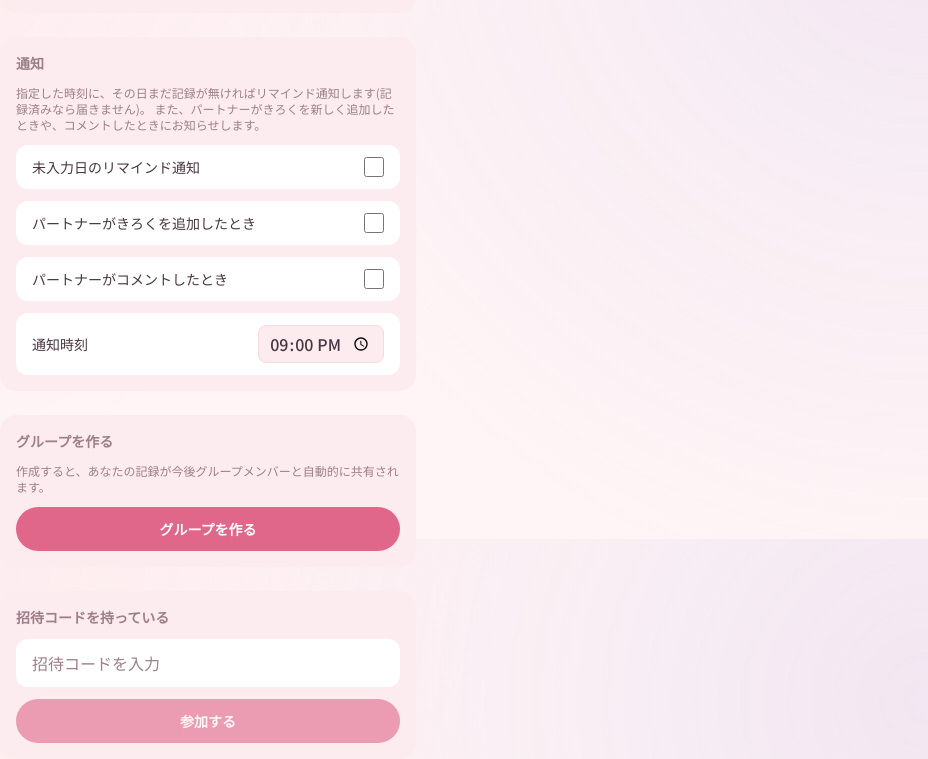
Test: GroupPage: グループ操作 › 作成できても招待コードの発行に失敗したら案内を出す(グループ自体は残す)
(page scrolled)
Click the button "グループを作る" at (208, 529), box [16,507,400,551]
(page scrolled)
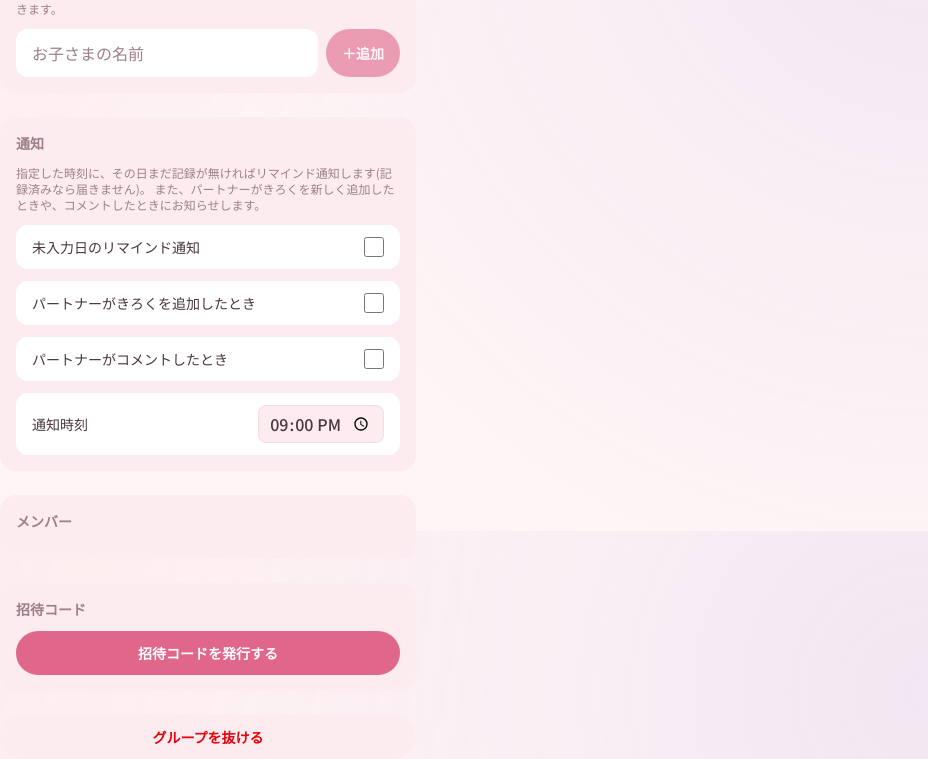
Expected: the button "招待コードを発行する" is shown, [16,631,400,675]
